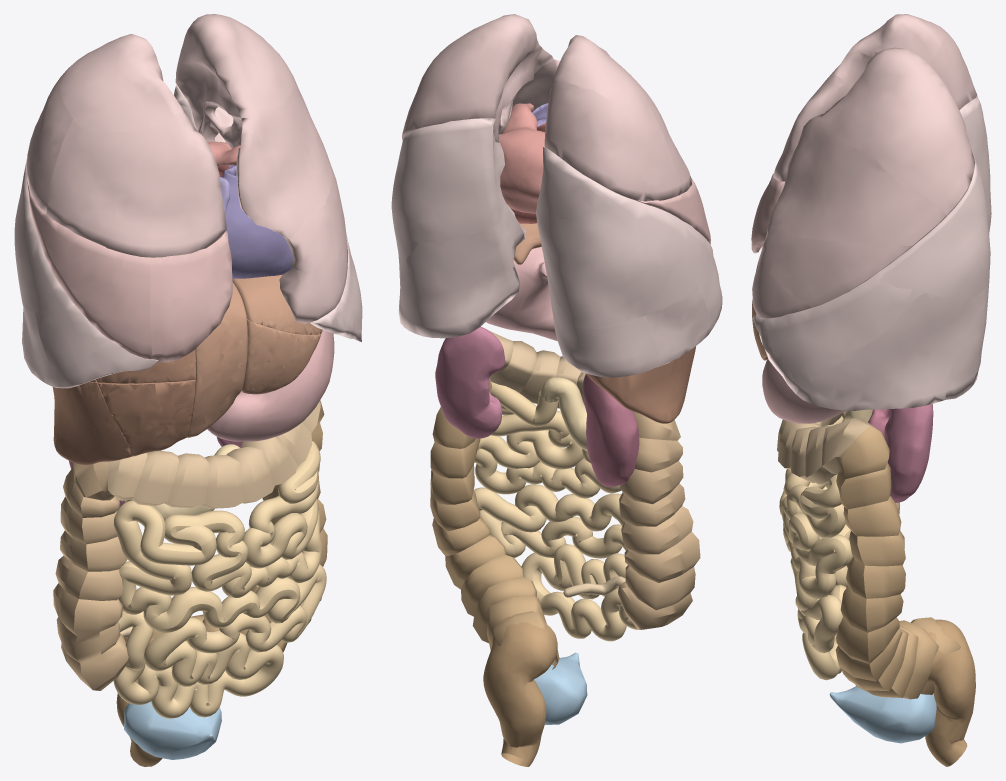
Rendered from conjunto.glb.
3 renders of one model, left to right at view 1: azimuth 30°, elevation 25°; view 2: azimuth 150°, elevation 25°; view 3: azimuth 270°, elevation 25°, orthographic. The views are drawn at different scales.
Parts seen in each view (by area): view 1: jejuno_ileo, lobo_superior_direito, lobo_superior_esquerdo, lobo_medio_direito, colon_ascendente, lobo_direito, lobo_esquerdo, colon_transverso, lobo_inferior_direito, estomago, bexiga, ventriculo_direito (+4 smaller); view 2: lobo_inferior_direito, lobo_inferior_esquerdo, jejuno_ileo, lobo_superior_direito, colon_ascendente, colon_descendente, lobo_superior_esquerdo, colon_sigmoide, rim_esquerdo, rim_direito, atrio_esquerdo, lobo_direito (+7 smaller); view 3: lobo_superior_esquerdo, lobo_inferior_esquerdo, colon_descendente, jejuno_ileo, lobo_superior_direito, colon_sigmoide, colon_transverso, bexiga, rim_esquerdo, estomago, lobo_inferior_direito, lobo_medio_direito.
Part boxes in pixels (box(x1,y1,x2,y2)): jejuno_ileo: box(113, 441, 326, 718); lobo_superior_direito: box(26, 34, 226, 257); lobo_superior_esquerdo: box(175, 14, 347, 323); lobo_medio_direito: box(26, 181, 232, 362); colon_ascendente: box(53, 461, 128, 690); lobo_direito: box(52, 349, 195, 464); lobo_esquerdo: box(187, 274, 322, 437); colon_transverso: box(108, 400, 320, 508); lobo_inferior_direito: box(14, 159, 158, 388); estomago: box(207, 330, 334, 441); bexiga: box(124, 701, 221, 759); ventriculo_direito: box(222, 165, 293, 278); lobo_inferior_direito: box(536, 147, 722, 377); lobo_inferior_esquerdo: box(391, 117, 526, 338); jejuno_ileo: box(473, 381, 637, 641); lobo_superior_direito: box(544, 35, 691, 201); colon_ascendente: box(618, 411, 700, 629); colon_descendente: box(430, 380, 559, 669); lobo_superior_esquerdo: box(402, 14, 559, 142); colon_sigmoide: box(483, 616, 557, 766); rim_esquerdo: box(435, 326, 505, 438); rim_direito: box(582, 374, 639, 486); atrio_esquerdo: box(499, 103, 545, 213); lobo_direito: box(585, 346, 695, 423); lobo_superior_esquerdo: box(752, 47, 975, 318); lobo_inferior_esquerdo: box(753, 154, 990, 410); colon_descendente: box(835, 426, 960, 699); jejuno_ileo: box(779, 416, 853, 680); lobo_superior_direito: box(773, 14, 977, 181); colon_sigmoide: box(925, 619, 975, 766); colon_transverso: box(777, 412, 874, 484); bexiga: box(829, 686, 936, 743); rim_esquerdo: box(884, 404, 933, 502); estomago: box(762, 358, 845, 423); lobo_inferior_direito: box(959, 96, 991, 233); lobo_medio_direito: box(751, 173, 784, 253).
Bounding box in the file's own units: 0.2618 × 0.6284 × 0.1866.
